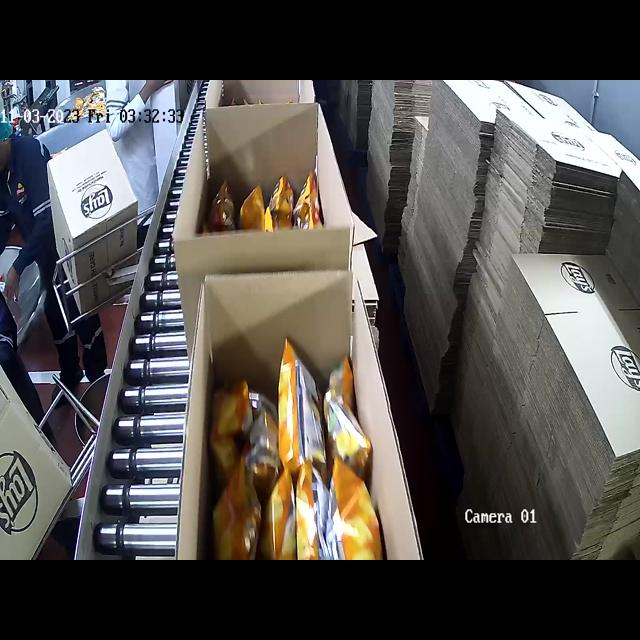cheese: (211, 363, 399, 537), (212, 174, 325, 237)
